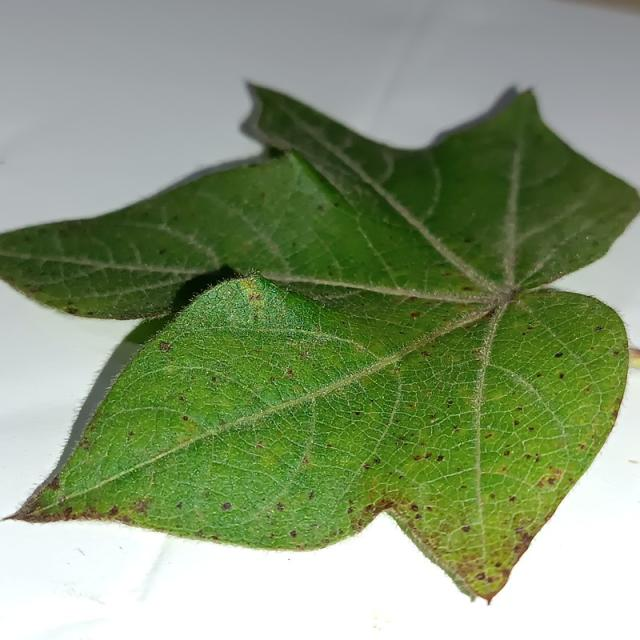Bacterial_Blight: (447, 527, 472, 549), (220, 491, 236, 515), (374, 498, 396, 512), (43, 473, 60, 491), (275, 497, 289, 517), (182, 418, 199, 434), (517, 532, 533, 548), (481, 305, 498, 320), (132, 501, 149, 514), (507, 286, 523, 298), (489, 390, 507, 400), (436, 446, 443, 469), (159, 341, 172, 353), (118, 514, 133, 524), (372, 455, 388, 464), (128, 427, 138, 441), (78, 439, 90, 450), (108, 505, 119, 516), (248, 292, 260, 302), (63, 506, 73, 517), (363, 504, 374, 514), (285, 368, 295, 378), (513, 543, 523, 553), (420, 350, 432, 357), (66, 307, 78, 314), (300, 350, 309, 359), (612, 409, 620, 419), (410, 312, 421, 319), (461, 525, 470, 533), (502, 569, 510, 578), (554, 351, 564, 358), (475, 573, 485, 580), (514, 528, 524, 535), (407, 296, 418, 302), (308, 491, 316, 499), (548, 477, 556, 485), (175, 501, 183, 509), (289, 530, 297, 538), (486, 576, 494, 584), (469, 595, 477, 603), (407, 402, 416, 409), (196, 530, 205, 537), (414, 513, 423, 520), (302, 456, 309, 464), (411, 504, 419, 511), (508, 495, 516, 502), (446, 400, 454, 407), (256, 442, 264, 449), (499, 466, 507, 473), (158, 248, 166, 255), (583, 386, 591, 393), (462, 286, 473, 291), (413, 455, 422, 461), (210, 535, 219, 541), (464, 238, 473, 244), (86, 310, 95, 316), (295, 544, 304, 550), (179, 395, 186, 402), (453, 426, 460, 433), (347, 507, 354, 514), (363, 464, 371, 470), (424, 453, 432, 459), (373, 458, 381, 464), (534, 454, 540, 462), (515, 406, 523, 412), (595, 326, 603, 332), (494, 562, 502, 568), (503, 450, 510, 456), (513, 420, 520, 426), (558, 373, 565, 379), (485, 433, 492, 439), (182, 415, 189, 421), (269, 376, 276, 382), (429, 414, 436, 420), (398, 436, 405, 442), (579, 444, 586, 450), (317, 205, 324, 211), (348, 499, 355, 505), (327, 271, 334, 277), (353, 411, 361, 416), (460, 485, 468, 490), (211, 376, 217, 382), (128, 430, 134, 436), (525, 454, 531, 460), (489, 493, 495, 499), (269, 533, 275, 539), (585, 235, 591, 241), (326, 443, 333, 448), (614, 350, 621, 355), (528, 426, 534, 431), (370, 398, 375, 403), (575, 253, 580, 258), (536, 373, 542, 377)
Cotton: (0, 88, 639, 597)
